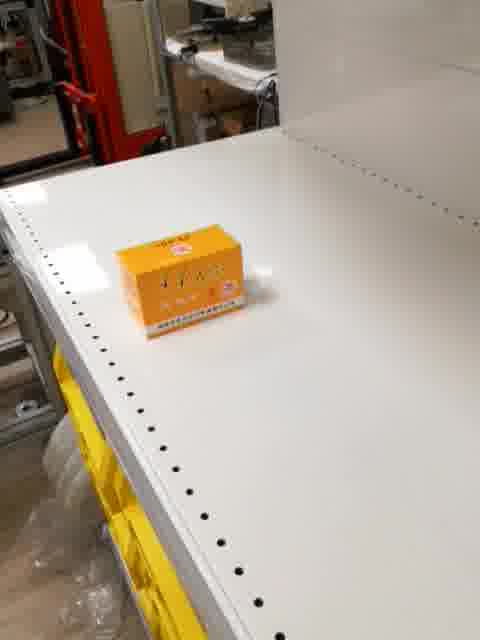jasminetea: (113, 223, 249, 344)
